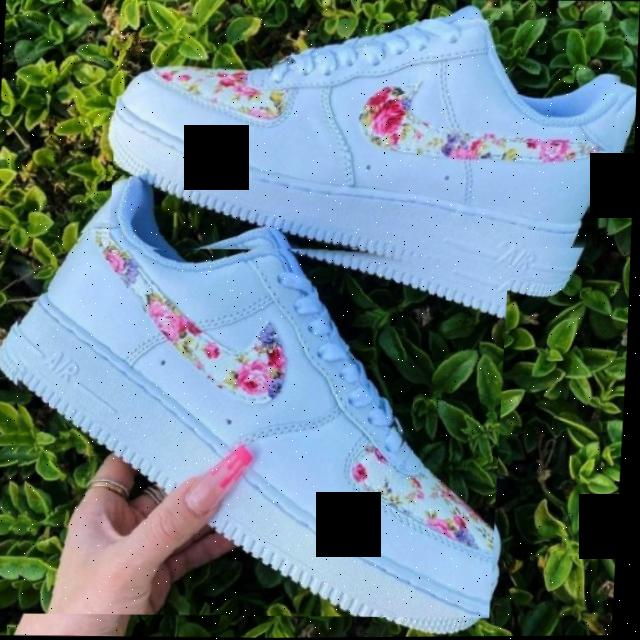shoe: (0, 224, 512, 621), (109, 13, 627, 259)
